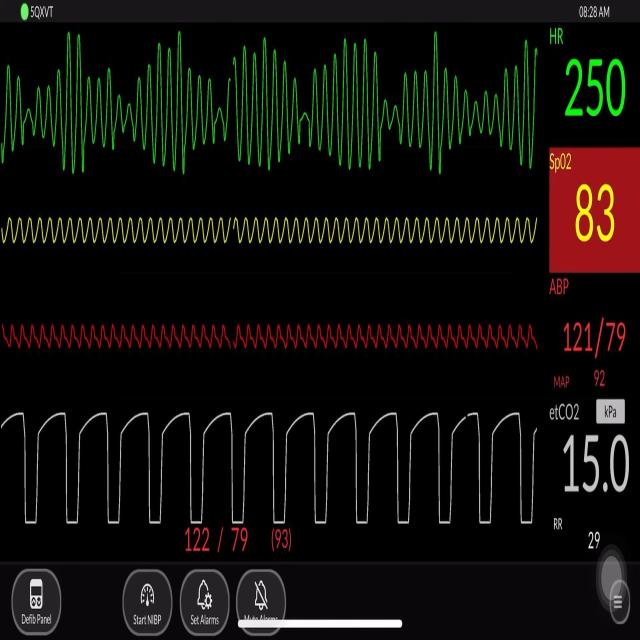danger: (225, 34, 536, 191), (32, 31, 126, 186), (134, 22, 212, 175)
